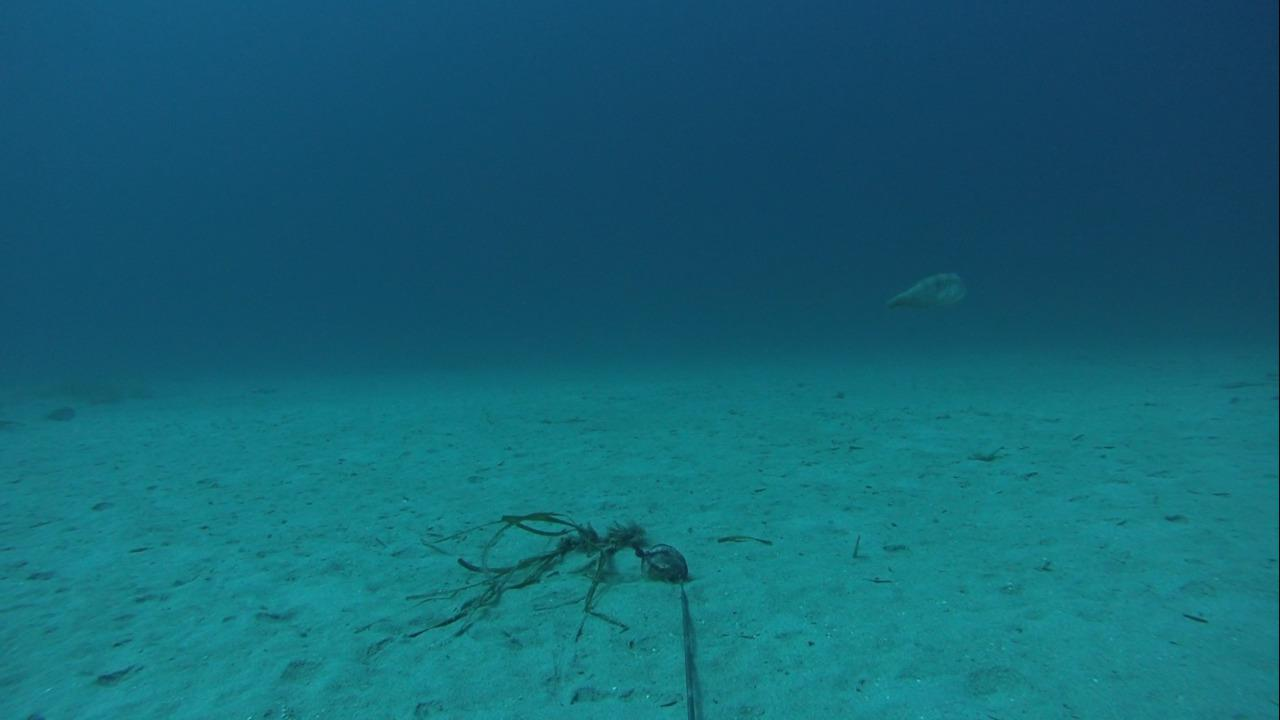raor: (880, 268, 971, 312)
